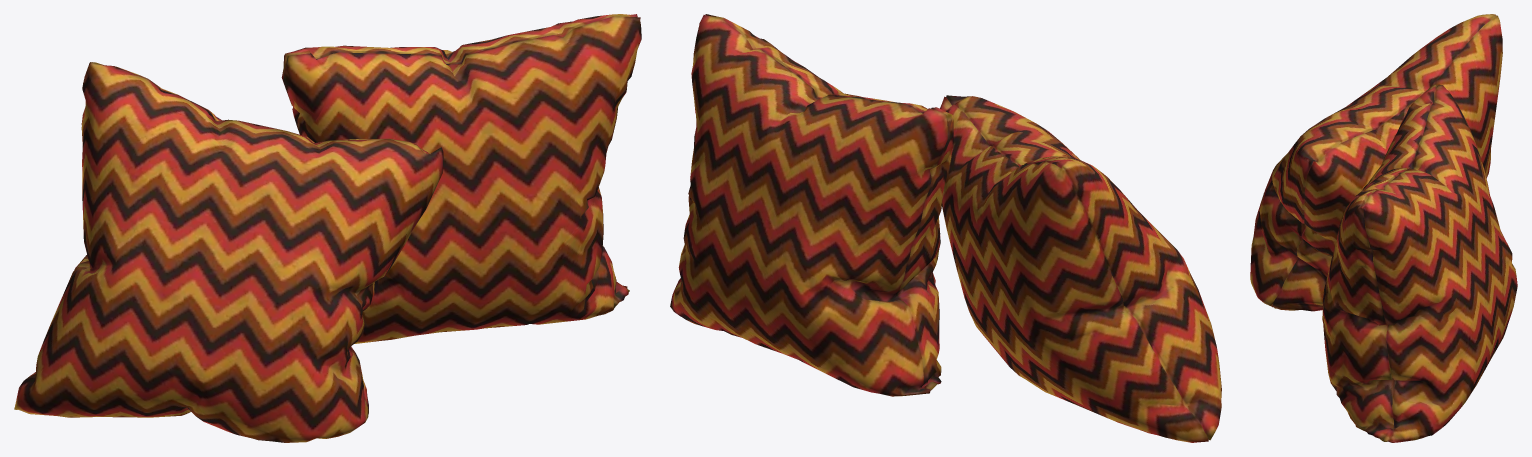
File: throw_pillows_01.glb
The picture shows the model from 3 angles, left to right: view 1: azimuth 30°, elevation 25°; view 2: azimuth 150°, elevation 25°; view 3: azimuth 270°, elevation 25°; orthographic projection. The views are drawn at different scales.
Visible parts, largest first — view 1: throw_pillows_01_pillow01, throw_pillows_01_pillow02; view 2: throw_pillows_01_pillow02, throw_pillows_01_pillow01; view 3: throw_pillows_01_pillow02, throw_pillows_01_pillow01.
Part boxes in pixels (x1=…): throw_pillows_01_pillow01: x1=14, y1=62, x2=443, y2=442; throw_pillows_01_pillow02: x1=281, y1=14, x2=641, y2=343; throw_pillows_01_pillow02: x1=670, y1=14, x2=953, y2=396; throw_pillows_01_pillow01: x1=940, y1=95, x2=1221, y2=442; throw_pillows_01_pillow02: x1=1322, y1=84, x2=1517, y2=442; throw_pillows_01_pillow01: x1=1250, y1=14, x2=1502, y2=311.
Bounding box in the file's own units: 0.9401 × 0.4501 × 0.4519.
Materials: 1 (1 with a texture image).
